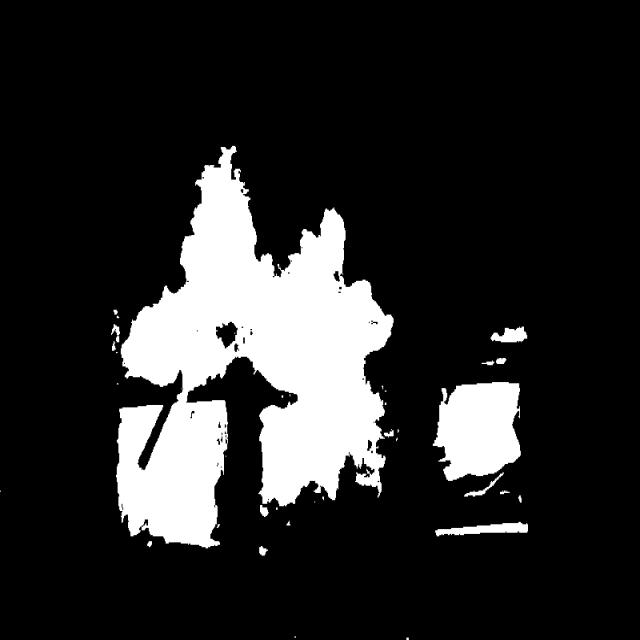fire: (85, 117, 546, 578)
